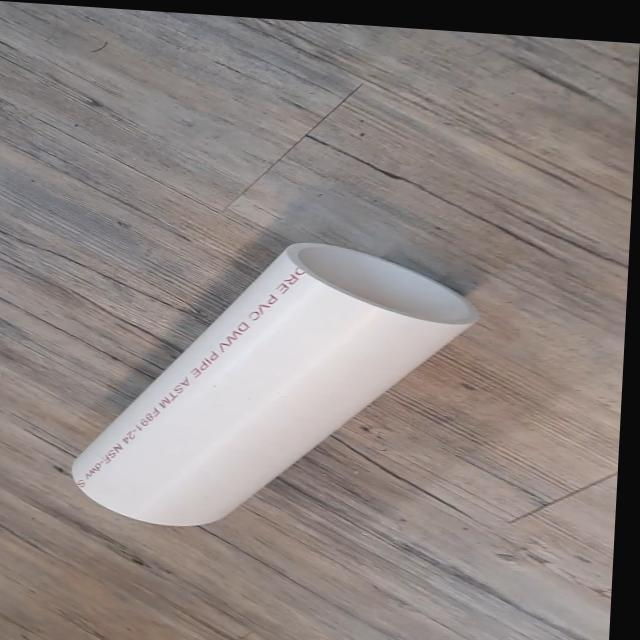CORAL: (67, 222, 490, 548)
